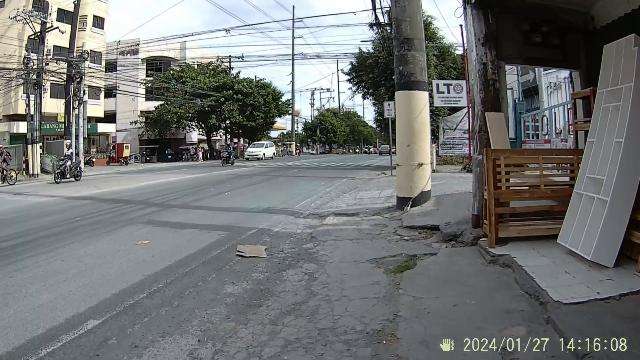street_sign: (383, 99, 399, 173)
street_vendor_cart: (481, 144, 597, 256)
utility_post: (10, 4, 58, 178), (395, 0, 433, 200)
